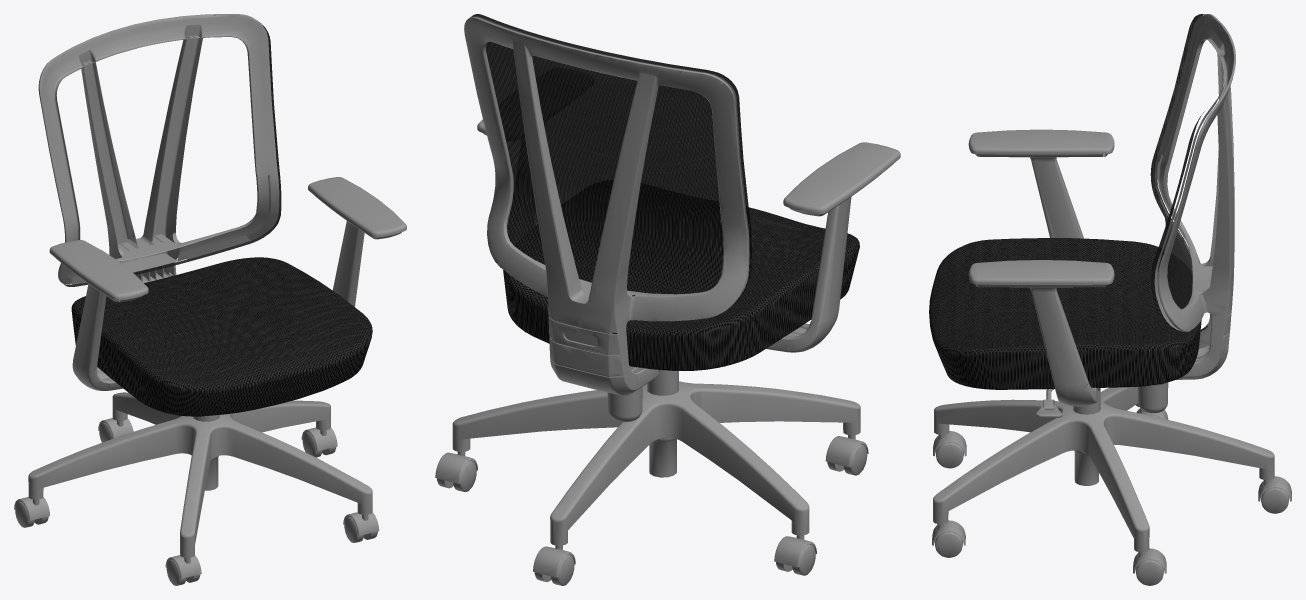
3 views of the same model, side by side, from view 1: azimuth 30°, elevation 25°; view 2: azimuth 150°, elevation 25°; view 3: azimuth 270°, elevation 25° (orthographic). The views are drawn at different scales.
Visible parts, largest first — view 1: 99226dc4-039d-4378-9401-d4abc5010605, efc3d91d-a149-430c-9a99-79546349ca10, c920263e-f2e0-43cf-8570-dad0c891c471, ad24330c-470c-4185-9a80-e8c1de1eb894, 1151a495-2f79-4f1f-91a8-8534bd393969 (×2), a3af7a25-e5fe-42e5-bf9b-ce38ec769a76, dc096193-af1c-4b4b-a806-3dbf72800871, 092774d9-3595-4397-a5ea-b14eab61dedb, 18e572c7-00c8-4073-969e-a73ece6efa03, 0778b4e2-aea1-48ba-9b32-8b8b770d649b, fd7f1148-0763-4495-a2b8-6820c556cfbe; view 2: 1151a495-2f79-4f1f-91a8-8534bd393969 (×2), efc3d91d-a149-430c-9a99-79546349ca10, c920263e-f2e0-43cf-8570-dad0c891c471, 99226dc4-039d-4378-9401-d4abc5010605, ad24330c-470c-4185-9a80-e8c1de1eb894, fd7f1148-0763-4495-a2b8-6820c556cfbe, 0778b4e2-aea1-48ba-9b32-8b8b770d649b, dc096193-af1c-4b4b-a806-3dbf72800871, 092774d9-3595-4397-a5ea-b14eab61dedb, 18e572c7-00c8-4073-969e-a73ece6efa03, 957cb6e6-e034-4d62-925e-87b6e89121ec; view 3: 99226dc4-039d-4378-9401-d4abc5010605, c920263e-f2e0-43cf-8570-dad0c891c471, efc3d91d-a149-430c-9a99-79546349ca10, ad24330c-470c-4185-9a80-e8c1de1eb894, 1151a495-2f79-4f1f-91a8-8534bd393969 (×2), fd7f1148-0763-4495-a2b8-6820c556cfbe, 0778b4e2-aea1-48ba-9b32-8b8b770d649b, 18e572c7-00c8-4073-969e-a73ece6efa03, a3af7a25-e5fe-42e5-bf9b-ce38ec769a76, dc096193-af1c-4b4b-a806-3dbf72800871, 957cb6e6-e034-4d62-925e-87b6e89121ec.
Boxes of the visible parts, x1=… form: 99226dc4-039d-4378-9401-d4abc5010605: x1=71, y1=257, x2=372, y2=416; efc3d91d-a149-430c-9a99-79546349ca10: x1=38, y1=14, x2=279, y2=284; c920263e-f2e0-43cf-8570-dad0c891c471: x1=28, y1=392, x2=372, y2=557; ad24330c-470c-4185-9a80-e8c1de1eb894: x1=49, y1=177, x2=406, y2=390; 1151a495-2f79-4f1f-91a8-8534bd393969 (×2): x1=64, y1=20, x2=281, y2=286; a3af7a25-e5fe-42e5-bf9b-ce38ec769a76: x1=343, y1=512, x2=379, y2=542; dc096193-af1c-4b4b-a806-3dbf72800871: x1=165, y1=555, x2=201, y2=585; 092774d9-3595-4397-a5ea-b14eab61dedb: x1=14, y1=497, x2=49, y2=527; 18e572c7-00c8-4073-969e-a73ece6efa03: x1=301, y1=427, x2=337, y2=457; 0778b4e2-aea1-48ba-9b32-8b8b770d649b: x1=98, y1=418, x2=133, y2=442; fd7f1148-0763-4495-a2b8-6820c556cfbe: x1=193, y1=415, x2=219, y2=490; 1151a495-2f79-4f1f-91a8-8534bd393969 (×2): x1=470, y1=14, x2=751, y2=306; efc3d91d-a149-430c-9a99-79546349ca10: x1=464, y1=16, x2=749, y2=395; c920263e-f2e0-43cf-8570-dad0c891c471: x1=452, y1=381, x2=860, y2=545; 99226dc4-039d-4378-9401-d4abc5010605: x1=503, y1=207, x2=859, y2=370; ad24330c-470c-4185-9a80-e8c1de1eb894: x1=477, y1=119, x2=900, y2=352; fd7f1148-0763-4495-a2b8-6820c556cfbe: x1=647, y1=370, x2=678, y2=477; 0778b4e2-aea1-48ba-9b32-8b8b770d649b: x1=533, y1=545, x2=575, y2=585; dc096193-af1c-4b4b-a806-3dbf72800871: x1=825, y1=435, x2=868, y2=475; 092774d9-3595-4397-a5ea-b14eab61dedb: x1=774, y1=535, x2=816, y2=575; 18e572c7-00c8-4073-969e-a73ece6efa03: x1=435, y1=451, x2=477, y2=491; 957cb6e6-e034-4d62-925e-87b6e89121ec: x1=607, y1=387, x2=642, y2=422; 99226dc4-039d-4378-9401-d4abc5010605: x1=929, y1=238, x2=1201, y2=389; c920263e-f2e0-43cf-8570-dad0c891c471: x1=933, y1=386, x2=1274, y2=552; efc3d91d-a149-430c-9a99-79546349ca10: x1=1154, y1=14, x2=1235, y2=379; ad24330c-470c-4185-9a80-e8c1de1eb894: x1=968, y1=129, x2=1114, y2=406; 1151a495-2f79-4f1f-91a8-8534bd393969 (×2): x1=1150, y1=14, x2=1207, y2=331; fd7f1148-0763-4495-a2b8-6820c556cfbe: x1=1073, y1=388, x2=1100, y2=485; 0778b4e2-aea1-48ba-9b32-8b8b770d649b: x1=1258, y1=476, x2=1291, y2=513; 18e572c7-00c8-4073-969e-a73ece6efa03: x1=1133, y1=548, x2=1166, y2=585; a3af7a25-e5fe-42e5-bf9b-ce38ec769a76: x1=932, y1=520, x2=965, y2=557; dc096193-af1c-4b4b-a806-3dbf72800871: x1=933, y1=431, x2=966, y2=468; 957cb6e6-e034-4d62-925e-87b6e89121ec: x1=1137, y1=382, x2=1168, y2=413.
Size of the model in its own units: 0.6617 by 0.8894 by 0.6493.
3 materials, 2 textured.
